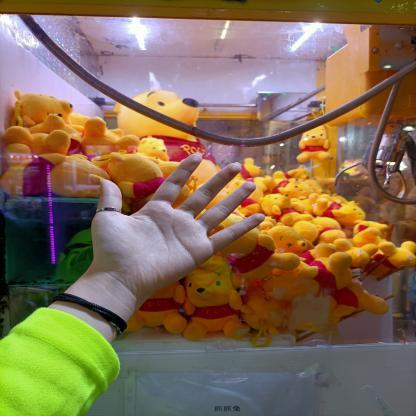bare_hand: (82, 147, 271, 305)
